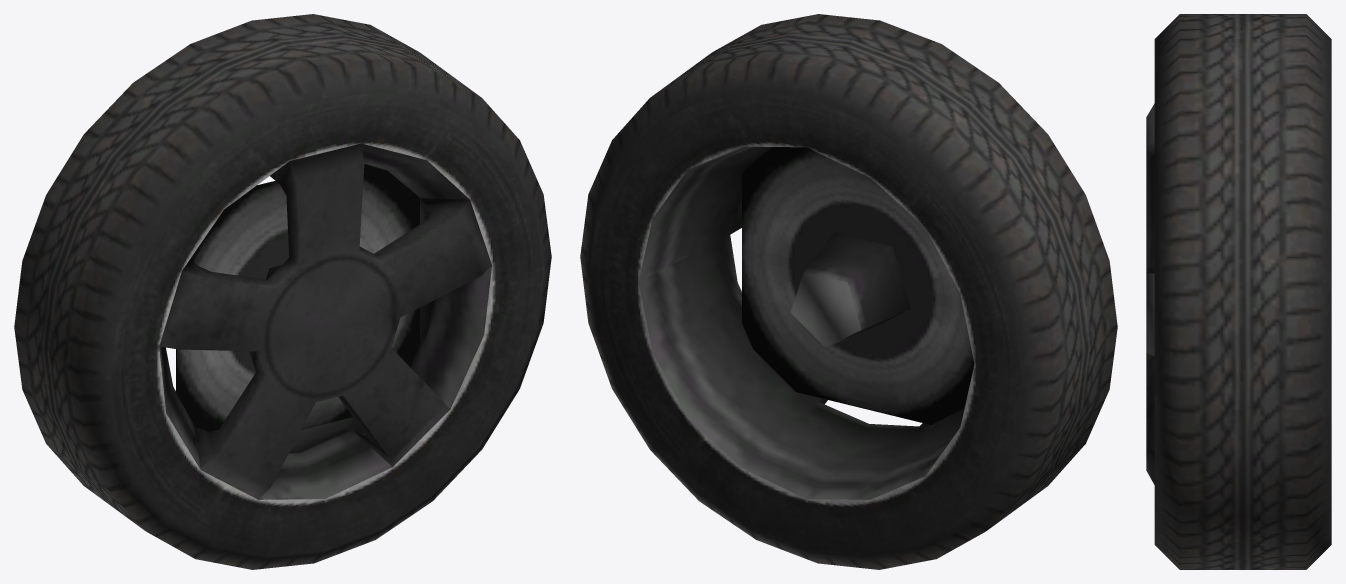
Rendered from V_A_2DrCoupe_Wheels_8_SkeletalMesh3_SkeletalMesh_20.psk.glb.
3 renders of one model, left to right at view 1: azimuth 30°, elevation 25°; view 2: azimuth 150°, elevation 25°; view 3: azimuth 270°, elevation 25°, orthographic.
Size of the model in its own units: 68.85 by 68.85 by 22.86.
Materials: 1 (1 with a texture image).
